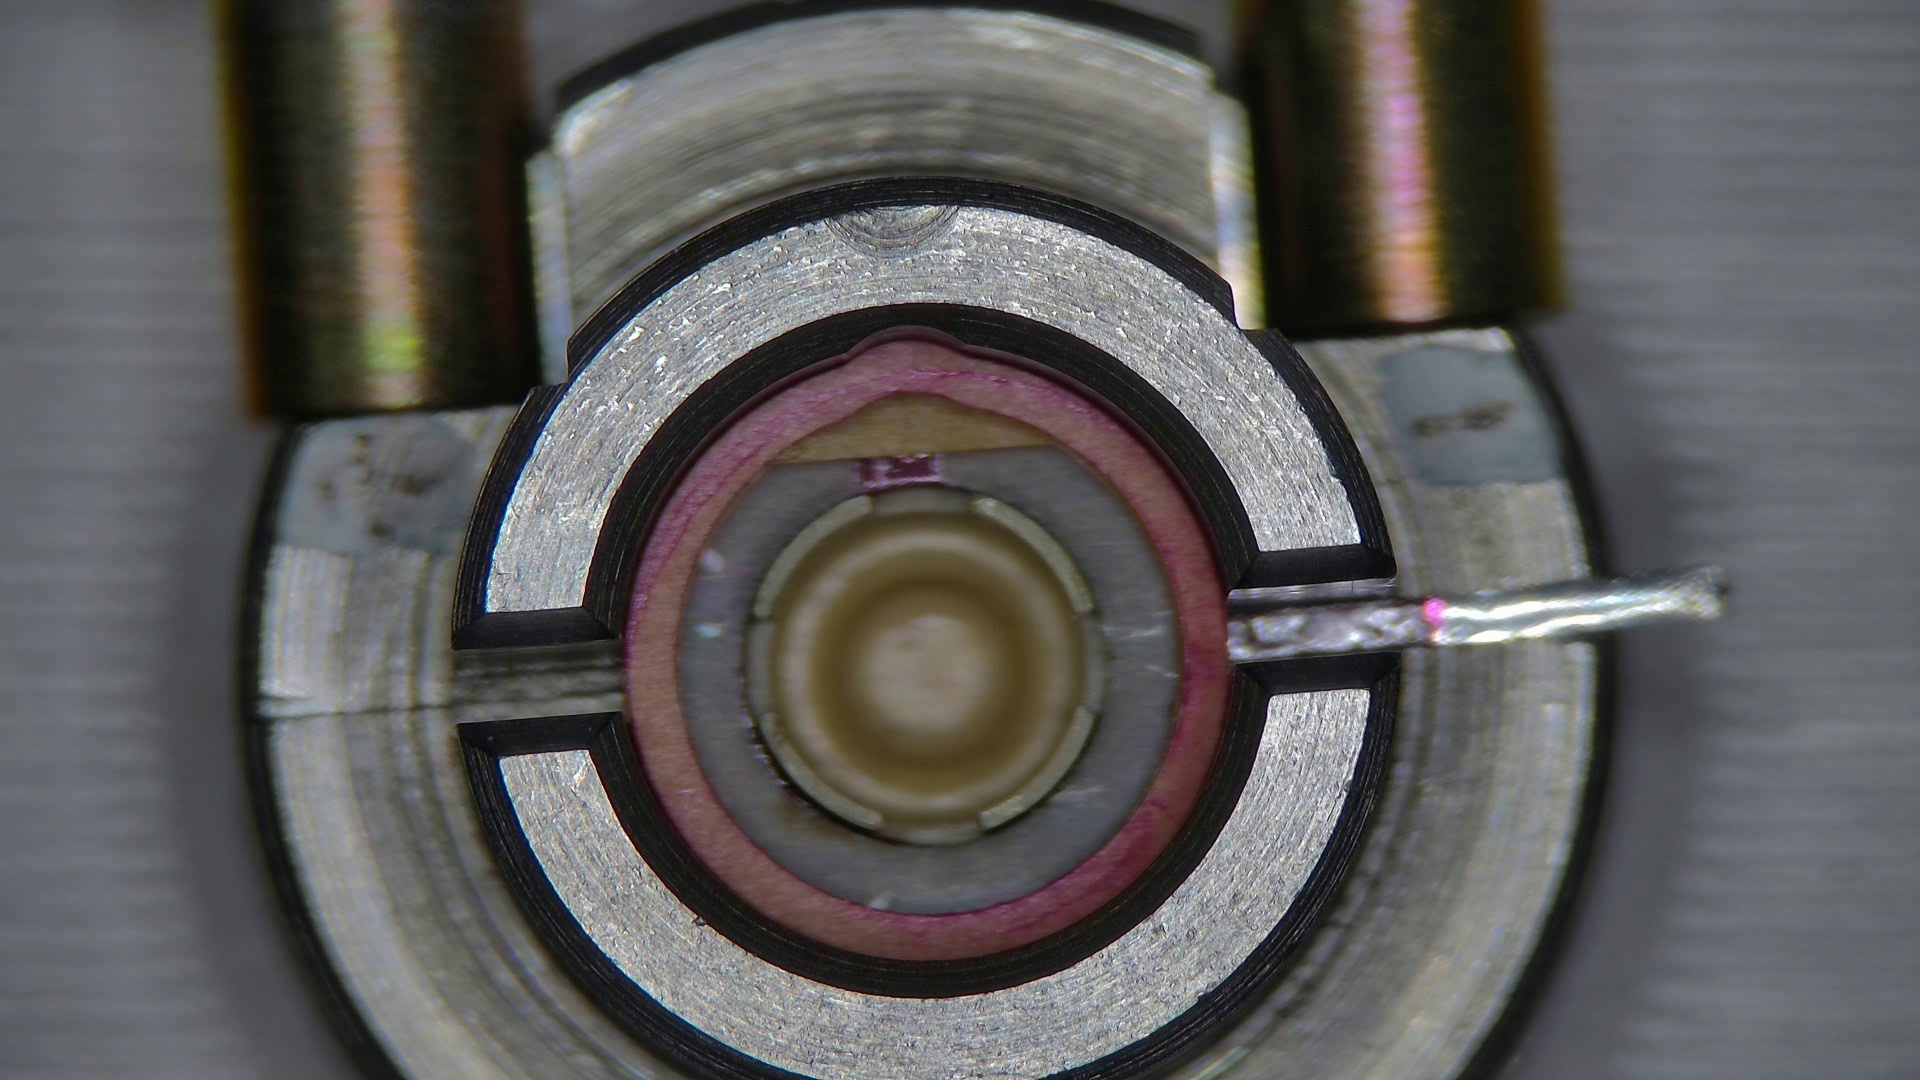GreyOring: (628, 338, 1229, 960)
YellowOring: (680, 451, 1178, 913)
redOring: (773, 396, 1059, 460)
